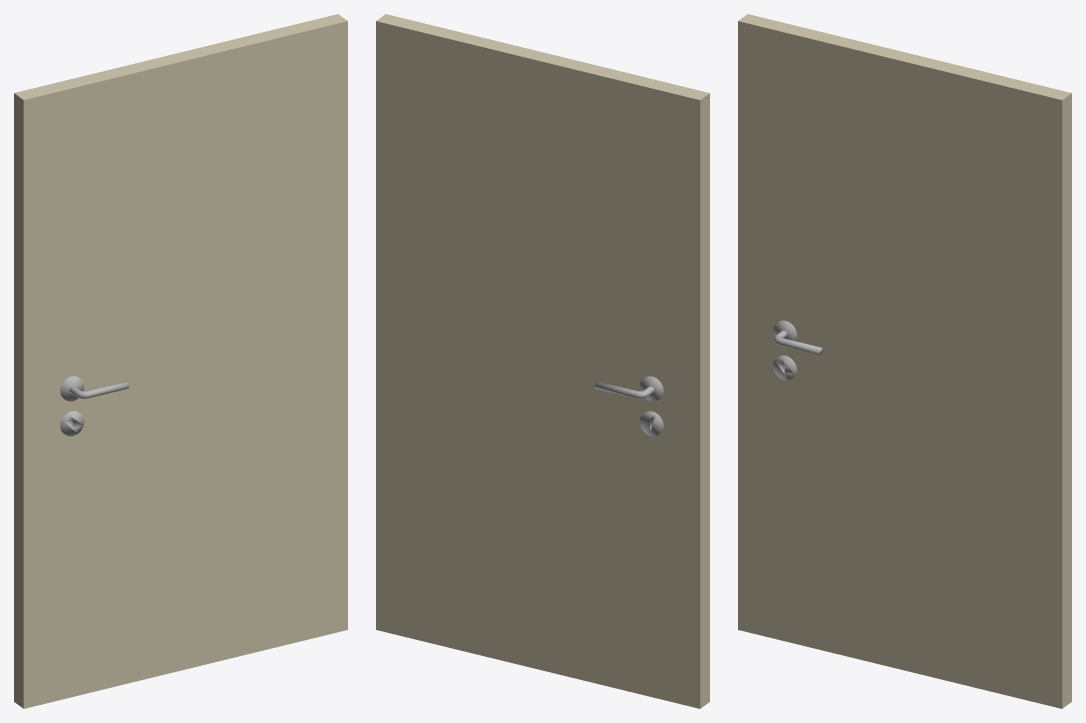
File: Door.fbx
3 views of the same model, side by side, from view 1: azimuth 30°, elevation 25°; view 2: azimuth 150°, elevation 25°; view 3: azimuth 330°, elevation 25° (orthographic).
Parts seen in each view (by area): view 1: Door.004; view 2: Door.004; view 3: Door.004.
Part boxes in pixels (x1,y1,x2,y2): Door.004: (14,14,347,708); Door.004: (376,14,709,708); Door.004: (738,14,1071,708).
Bounding box in the file's own units: 148 × 267 × 27.09.
